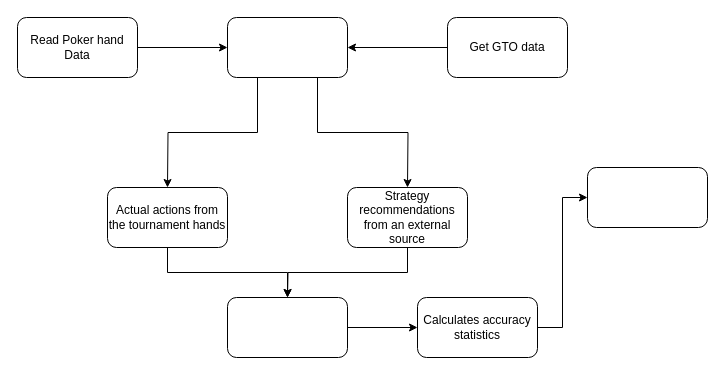
The diagram is 725 pixels wide and 375 high, and some of its shapes have lost their labels. The shapes that lost their labels are listed below. From the top down, each one's centre as x and y in pixels, then its label:
At (287,47): "Organizes imported data into Java objects".
At (647,197): "Displays comparison results and statistics".
At (287,327): "Compares actual recommendations to external strategies".
